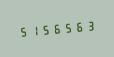five: (17, 23, 27, 39), (39, 21, 49, 37), (61, 19, 71, 35)
one: (28, 22, 38, 38)
six: (50, 20, 60, 36), (72, 18, 82, 34)
three: (83, 17, 93, 33)
